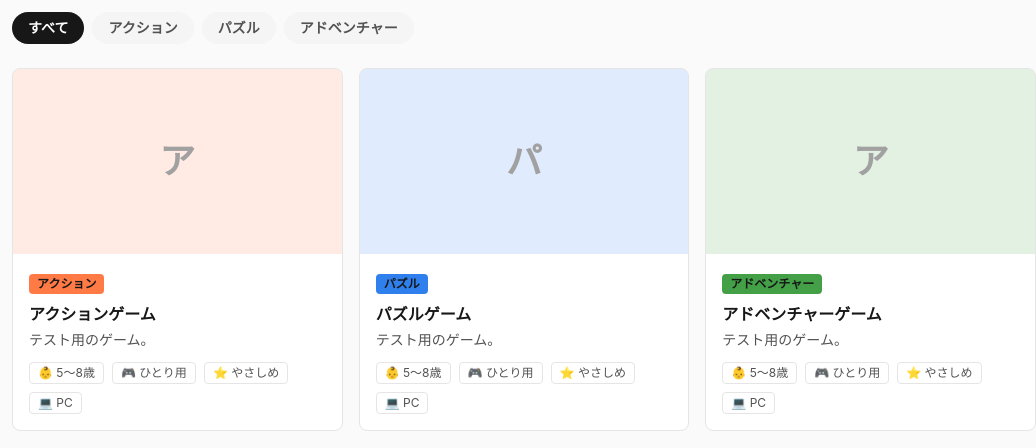
Test case: GenreFilter › 「すべて」タブを押すと全件表示に戻る
Step 1. Click the button "パズル" → (239, 28), box x1=202 y1=12 x2=276 y2=44
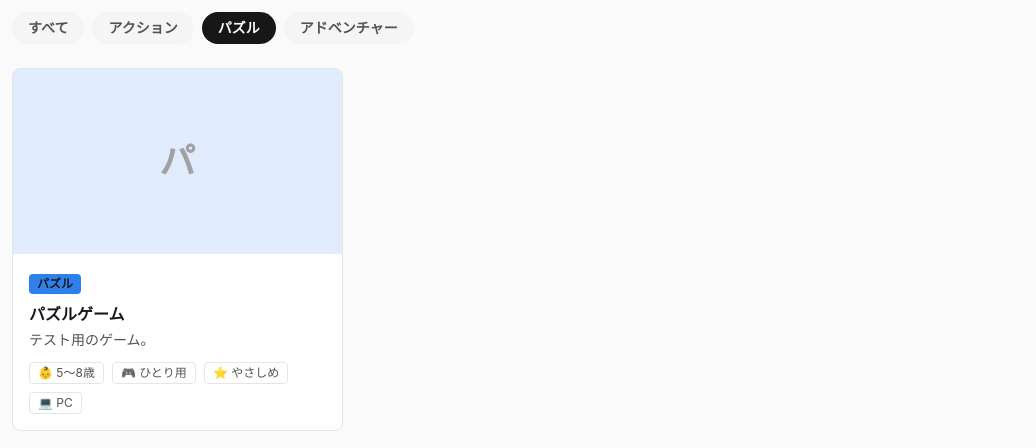
Step 2. Click the button "すべて" → (48, 28), box x1=12 y1=12 x2=84 y2=44
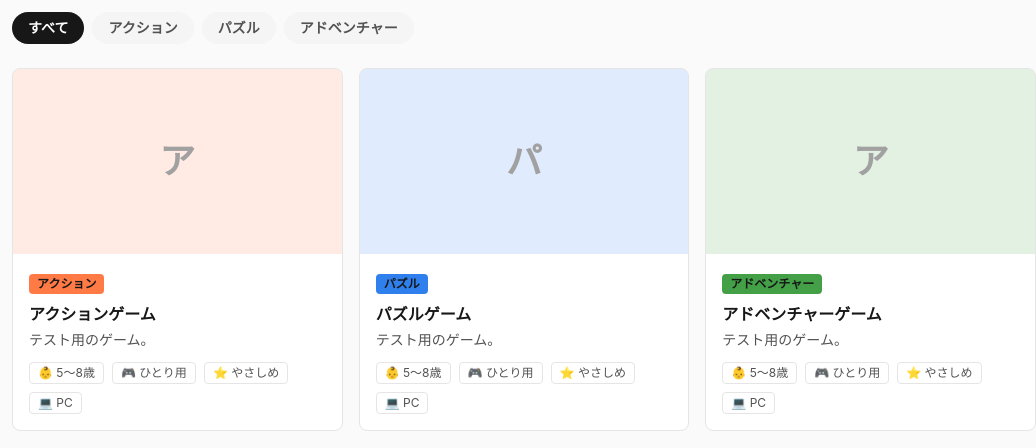
Expected: the heading "パズルゲーム" is shown, x1=376 y1=304 x2=471 y2=324
Result: the heading "アクションゲーム" is shown at x1=29 y1=304 x2=156 y2=324
Result: the heading "アドベンチャーゲーム" is shown at x1=722 y1=304 x2=882 y2=324
